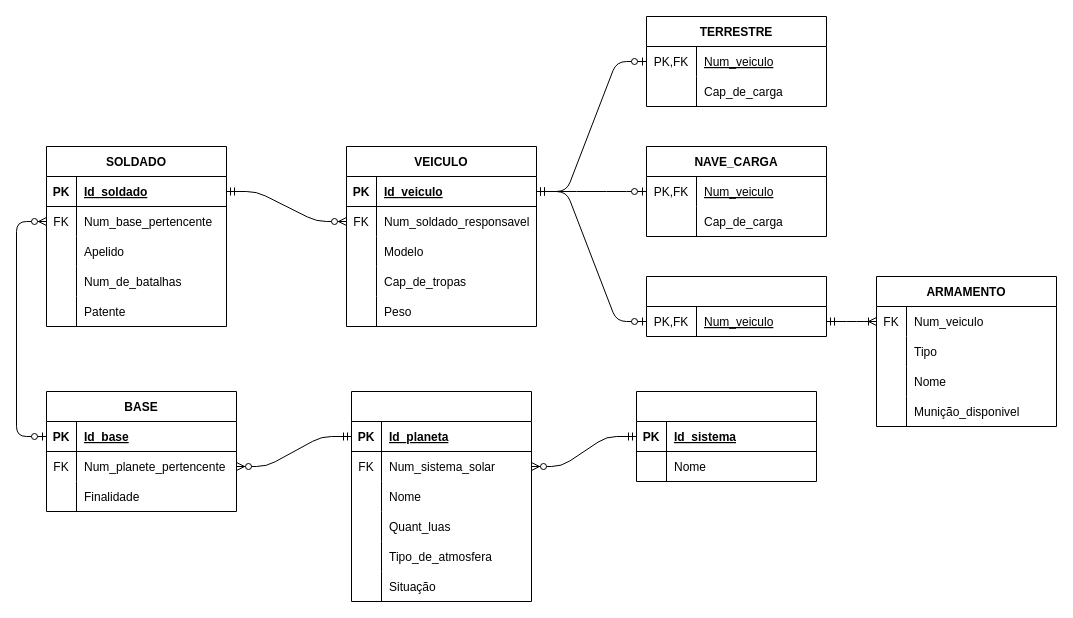
This 1073x618 diagram has some shape labels left out. The box of each missing label's shape, as (x1, y1, x2, y2) in pixels:
NAVE_BATALHA: (646, 276, 826, 336)
PLANTE: (350, 390, 532, 602)
SISTEMA_SOLAR: (636, 390, 816, 482)
